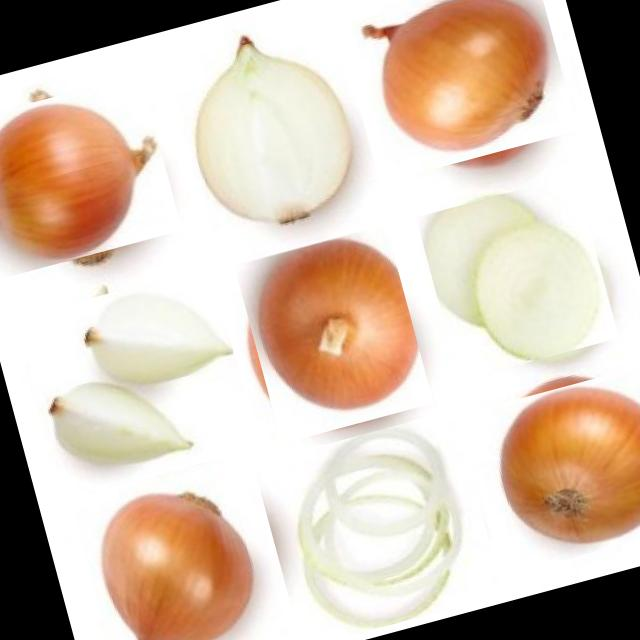Onion: (15, 262, 256, 503), (255, 405, 500, 640), (162, 11, 368, 249), (233, 224, 433, 444), (345, 0, 571, 190), (414, 173, 618, 380), (69, 465, 299, 640), (465, 356, 640, 582), (0, 68, 178, 284)
